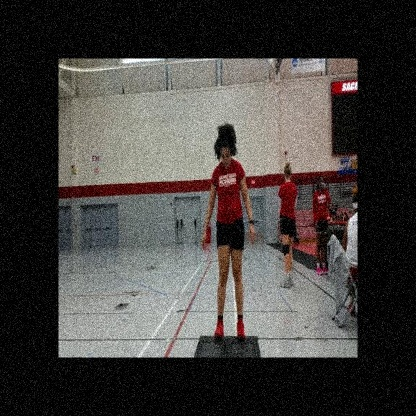lateral_flexion_right: (201, 121, 256, 347)
stance_width_normal: (200, 156, 256, 346)
